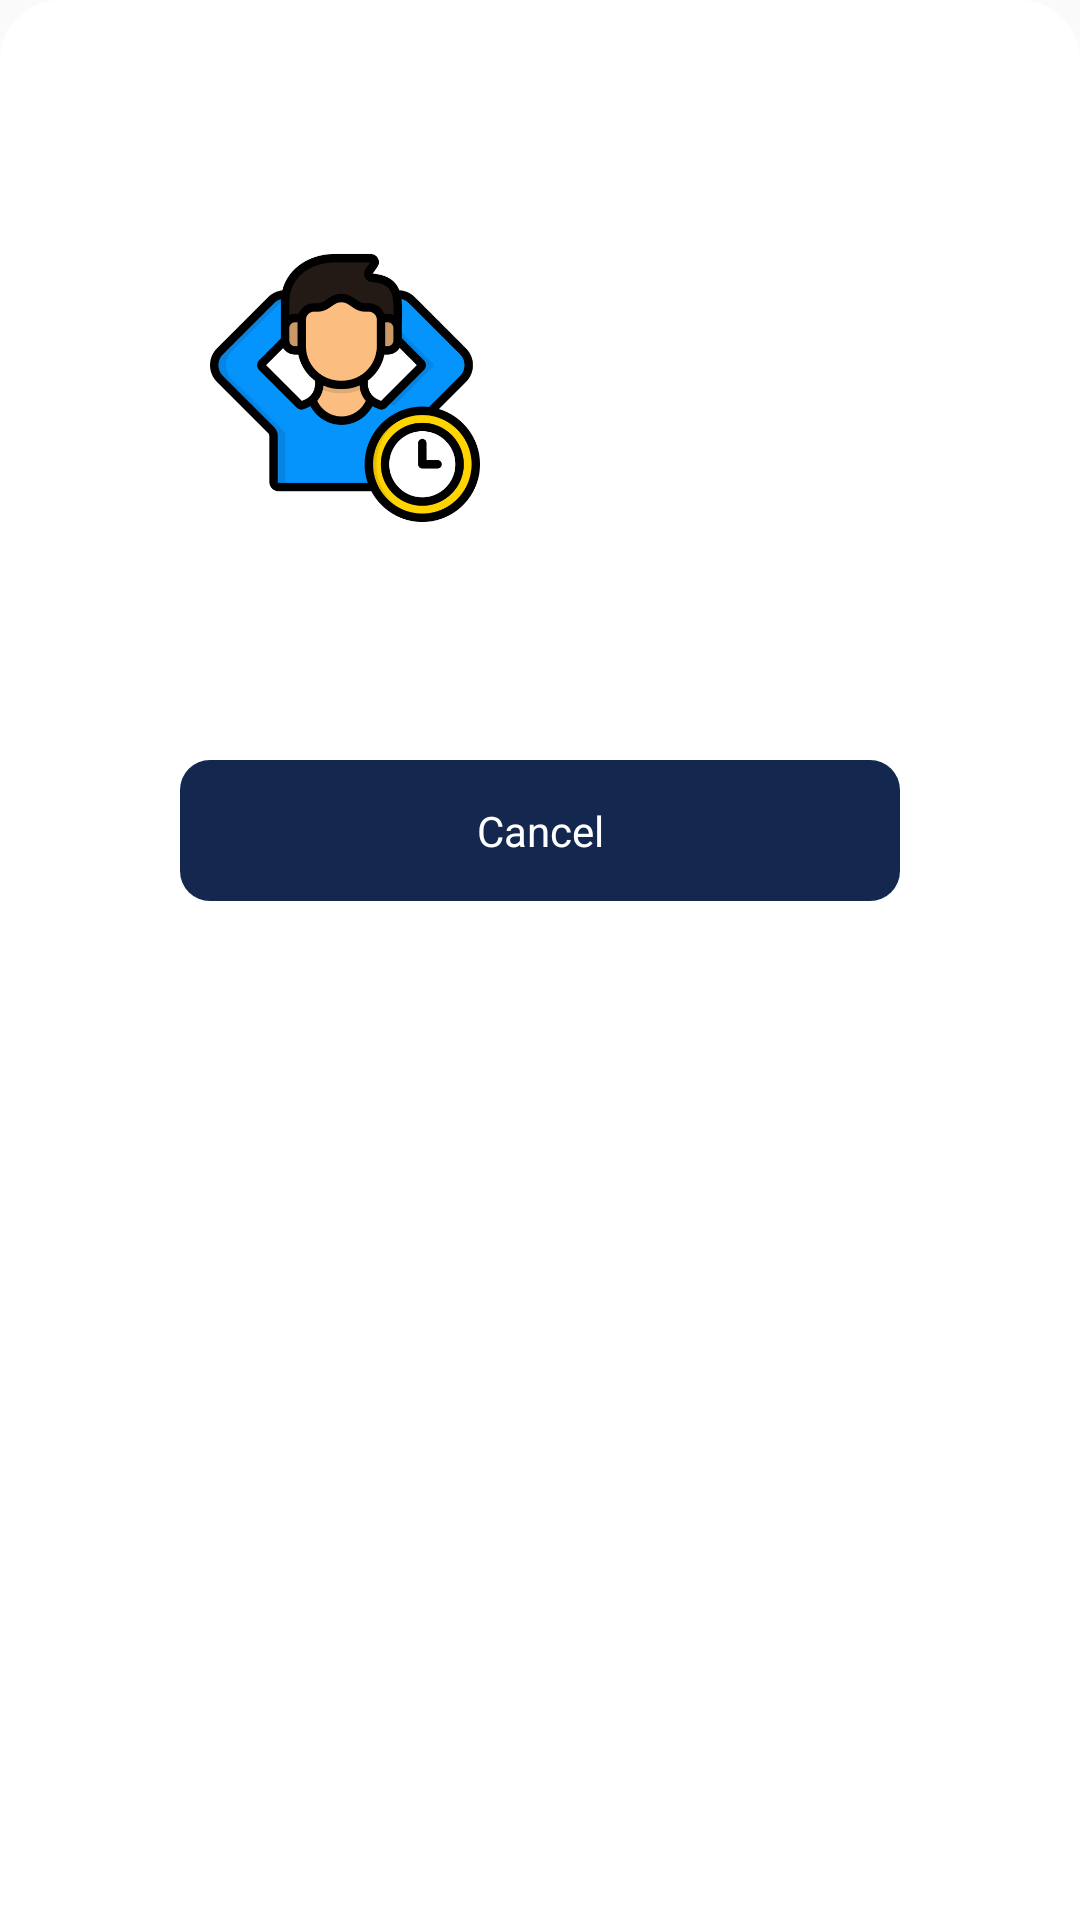

Named icons in this screenshot (1080px×1920px) and their bounding boxes, (x1, y1, x2, y2):
resting: (210, 254, 480, 522)
